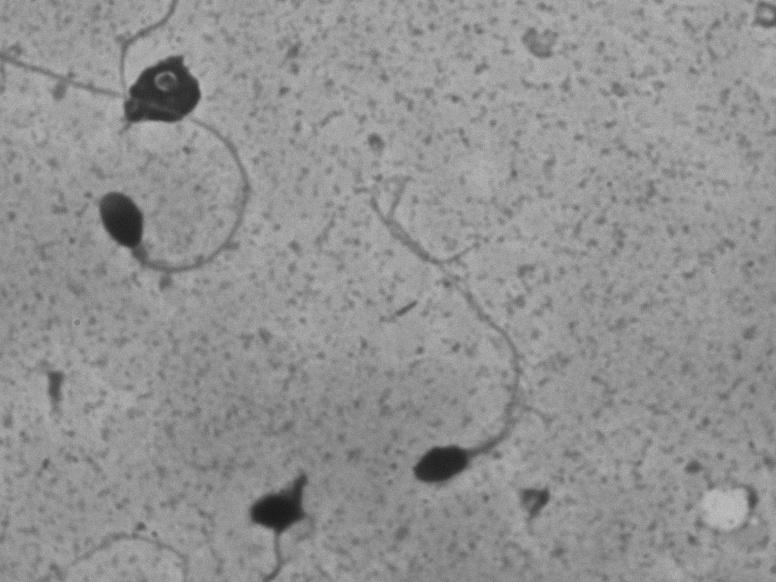Abnormal: (381, 282, 563, 496), (215, 443, 357, 572)
Normal: (0, 44, 271, 289)
